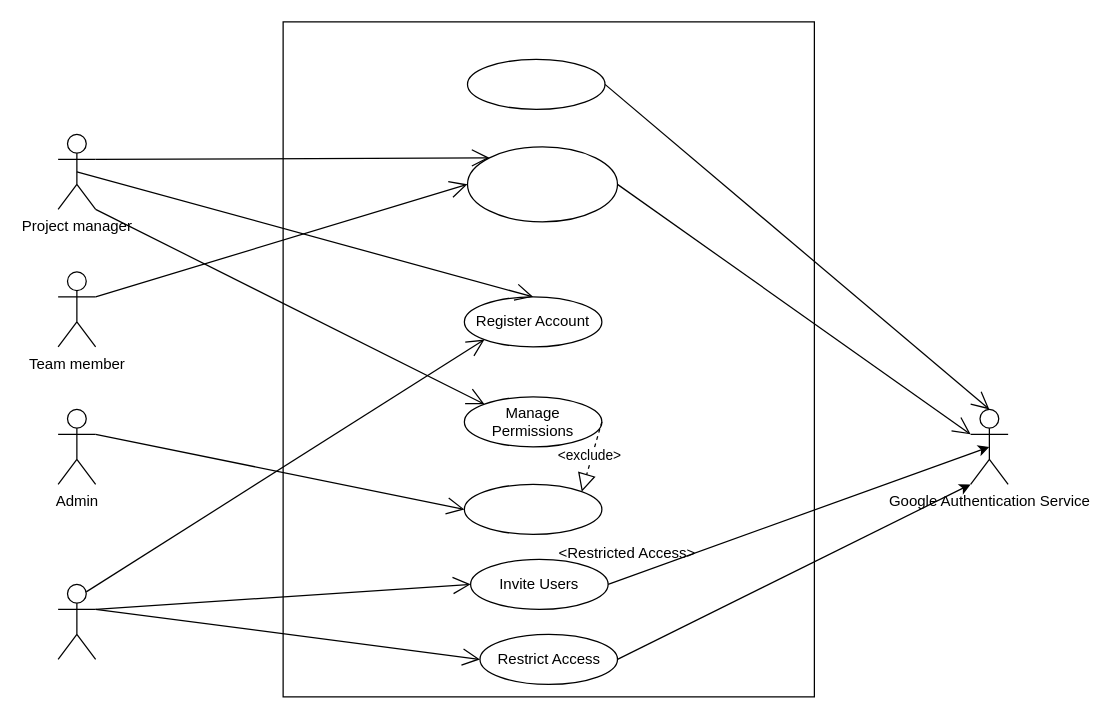
Image size: 1111x719. Some labels were removed from this diagram. The centre of each missing label's shape, as x and y in pixels:
Assign Roles: the point at 532,508
Authenticate via google: the point at 535,83
Client: the point at 76,621
Login: the point at 542,184
